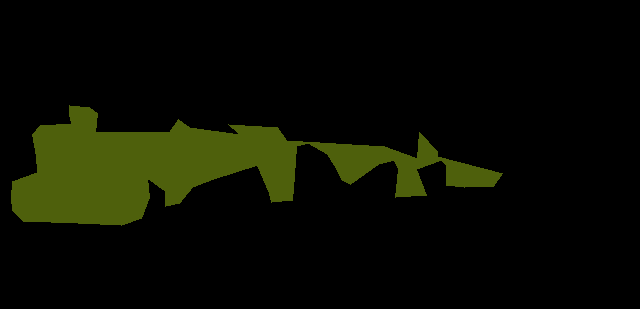Train: (11, 105, 502, 226)
